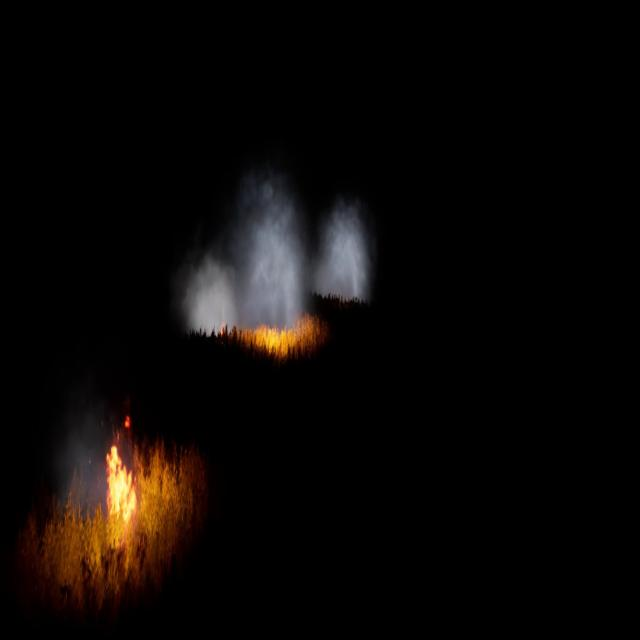fire: (236, 318, 326, 353), (105, 448, 142, 516)
smoke: (184, 177, 371, 337), (68, 394, 101, 512)
